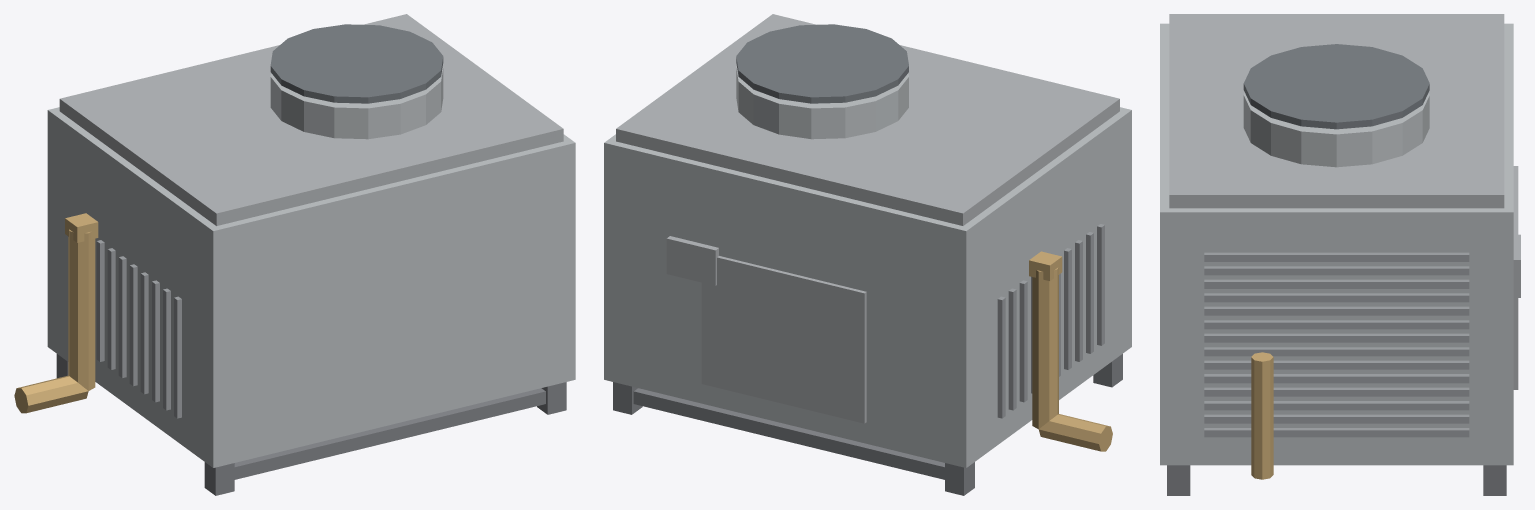
Rendered from hvac_air_conditioner.fbx.
3 renders of one model, left to right at view 1: azimuth 30°, elevation 25°; view 2: azimuth 150°, elevation 25°; view 3: azimuth 270°, elevation 25°, orthographic. The views are drawn at different scales.
Visible parts, largest first — view 1: hvac_air_conditioner; view 2: hvac_air_conditioner; view 3: hvac_air_conditioner.
Part boxes in pixels (x1,y1,x2,y2): hvac_air_conditioner: [14, 14, 575, 495]; hvac_air_conditioner: [604, 14, 1131, 495]; hvac_air_conditioner: [1160, 14, 1520, 495].
Size of the model in its own units: 627 by 409 by 388.
